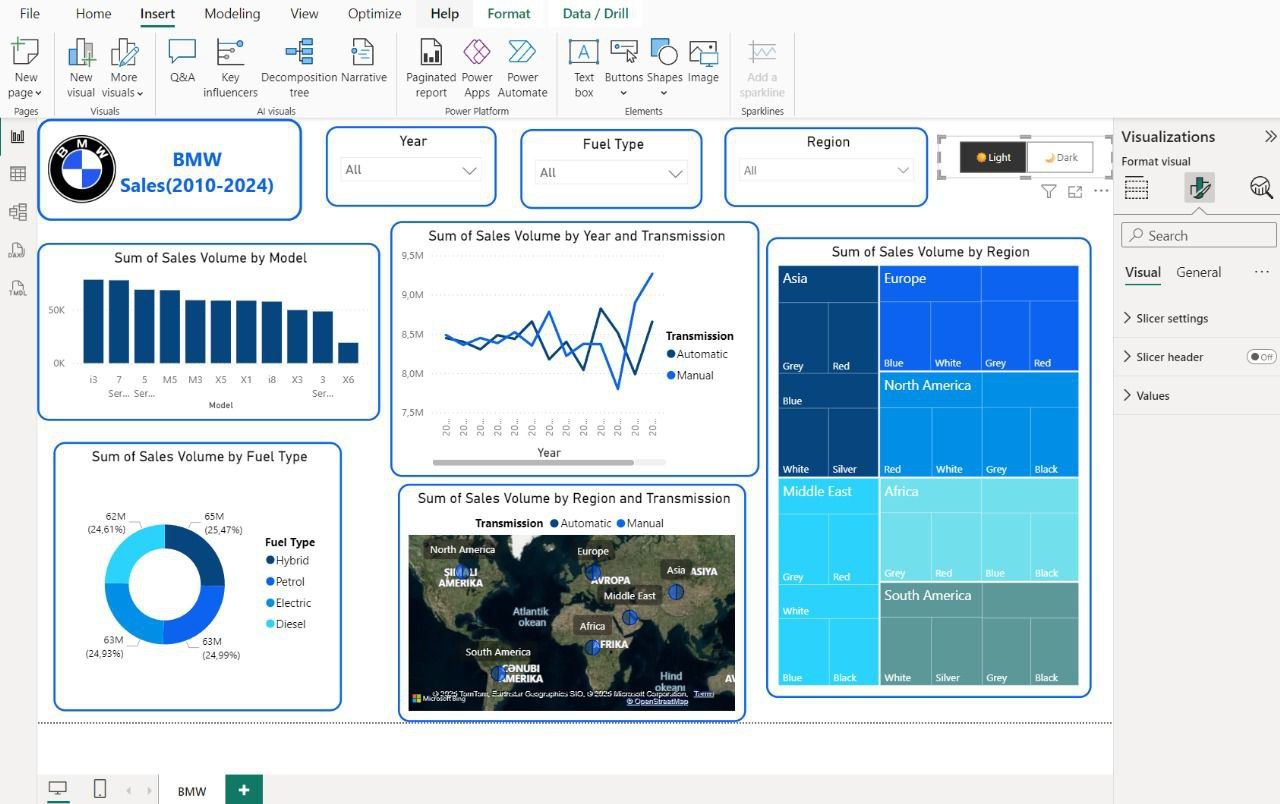

This screenshot's page, from the dashboard's own definition file:
{"tool":"powerbi","page":{"name":"BMW","canvas":[1280,720],"ordinal":0},"visuals":[{"type":"shape","box":[0,1.1,1280.5,719.3],"z":0},{"type":"donutChart","title":"Sum of Sales Volume by Fuel Type","fields":{"Category":["BMW sales data (2010-2024) (1).Fuel_Type"],"Y":["Sum(BMW sales data (2010-2024) (1).Sales_Volume)"]},"box":[19.2,386.2,343.3,320.7],"z":1000},{"type":"slicer","fields":{"Values":["Colors.Lebels"]},"box":[1071.6,15.8,208.9,57.6],"z":2000},{"type":"clusteredColumnChart","title":"Sum of Sales Volume by Model","fields":{"Category":["BMW sales data (2010-2024) (1).Model"],"Y":["Sum(BMW sales data (2010-2024) (1).Sales_Volume)"]},"box":[0,149,418.9,212.3],"z":3000},{"type":"slicer","title":"Year","fields":{"Values":["BMW sales data (2010-2024) (1).Year"]},"box":[343.3,10.2,203.2,96],"z":4000},{"type":"slicer","title":"Fuel type","fields":{"Values":["BMW sales data (2010-2024) (1).Fuel_Type"]},"box":[574.7,13.5,216.8,94.8],"z":5000},{"type":"slicer","title":"Region","fields":{"Values":["BMW sales data (2010-2024) (1).Region"]},"box":[817.5,11.3,242.8,94.8],"z":6000},{"type":"lineChart","title":"Sum of Sales Volume by Year and Transmission","fields":{"Category":["BMW sales data (2010-2024) (1).Year"],"Y":["Sum(BMW sales data (2010-2024) (1).Sales_Volume)"],"Series":["BMW sales data (2010-2024) (1).Transmission"]},"box":[430.9,122.1,415.8,304.6],"z":7000},{"type":"map","title":"Sum of Sales Volume by Region and Transmission","fields":{"Category":["BMW sales data (2010-2024) (1).Region"],"Size":["Sum(BMW sales data (2010-2024) (1).Sales_Volume)"],"Series":["BMW sales data (2010-2024) (1).Transmission"]},"box":[429.5,436,414.4,284],"z":8000},{"type":"treemap","title":"Sum of Sales Volume by Region","fields":{"Group":["BMW sales data (2010-2024) (1).Region"],"Values":["Sum(BMW sales data (2010-2024) (1).Sales_Volume)"],"Details":["BMW sales data (2010-2024) (1).Color"]},"box":[867.2,142.7,387,548.9],"z":9000},{"type":"image","box":[7.9,13.5,90.3,96],"z":10000},{"type":"shape","box":[98.2,21.5,184.1,84.7],"z":11000},{"type":"actionButton","box":[0,1.1,315,121.9],"z":12000}]}

Visuals, with their boxes on the page's 1280x720 design canvas (x1, y1, x2, y2). These are canvas units, not pixel positions in the 1280x804 screenshot, which may show the page scaled, cropped or inside an application window:
shape: bbox=[0, 1, 1280, 720]
"Sum of Sales Volume by Fuel Type" donutChart: bbox=[19, 386, 362, 707]
slicer - Colors.Lebels: bbox=[1072, 16, 1280, 73]
"Sum of Sales Volume by Model" clusteredColumnChart: bbox=[0, 149, 419, 361]
"Year" slicer: bbox=[343, 10, 546, 106]
"Fuel type" slicer: bbox=[575, 14, 792, 108]
"Region" slicer: bbox=[818, 11, 1060, 106]
"Sum of Sales Volume by Year and Transmission" lineChart: bbox=[431, 122, 847, 427]
"Sum of Sales Volume by Region and Transmission" map: bbox=[430, 436, 844, 720]
"Sum of Sales Volume by Region" treemap: bbox=[867, 143, 1254, 692]
image: bbox=[8, 14, 98, 110]
shape: bbox=[98, 22, 282, 106]
actionButton: bbox=[0, 1, 315, 123]
